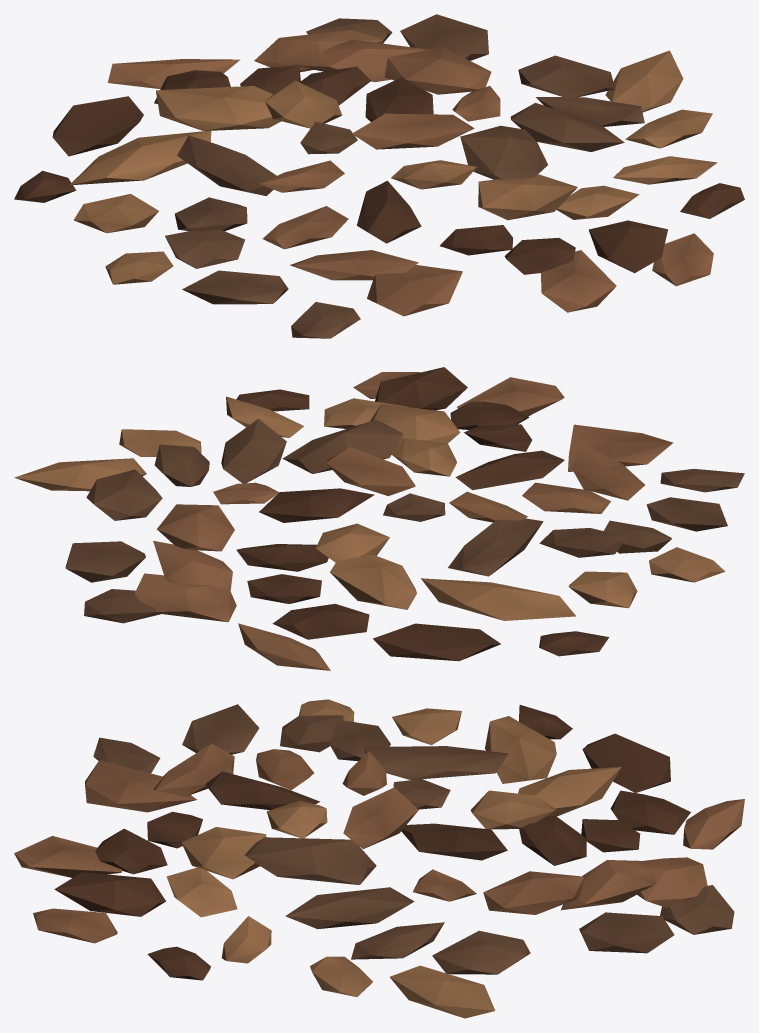
The model's file is coir.glb.
3 renders of one model, top to bottom at view 1: azimuth 30°, elevation 25°; view 2: azimuth 150°, elevation 25°; view 3: azimuth 270°, elevation 25°, orthographic. The views are drawn at different scales.
Parts seen in each view (by area): view 1: coir; view 2: coir; view 3: coir.
Part boxes in pixels (x1=…): coir: x1=14, y1=14, x2=744, y2=338; coir: x1=14, y1=367, x2=744, y2=670; coir: x1=14, y1=699, x2=744, y2=1018.
Size of the model in its own units: 0.1876 by 0.0165 by 0.1827.
